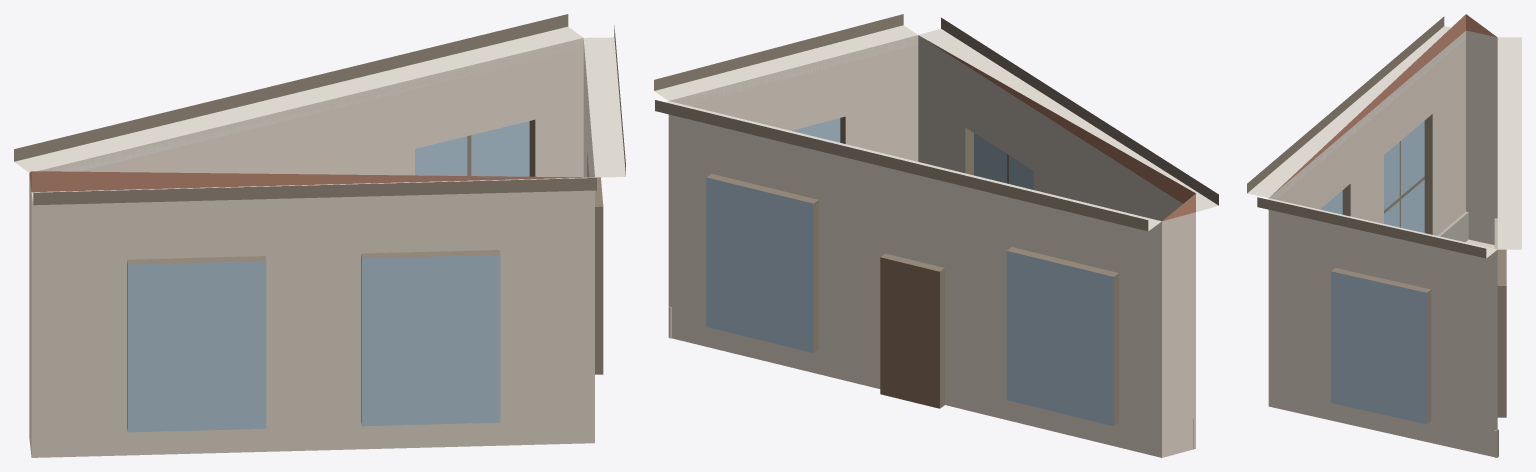
3 views of the same model, side by side, from view 1: azimuth 30°, elevation 25°; view 2: azimuth 150°, elevation 25°; view 3: azimuth 270°, elevation 25° (orthographic). The views are drawn at different scales.
Visible parts, largest first — view 1: E-2#1; view 2: E-2#1; view 3: E-2#1.
Part boxes in pixels (<box>): E-2#1: <box>14,14,625,457</box>; E-2#1: <box>654,14,1218,457</box>; E-2#1: <box>1247,14,1521,457</box>.
Bounding box in the file's own units: 9.09 × 4.1 × 4.54.
